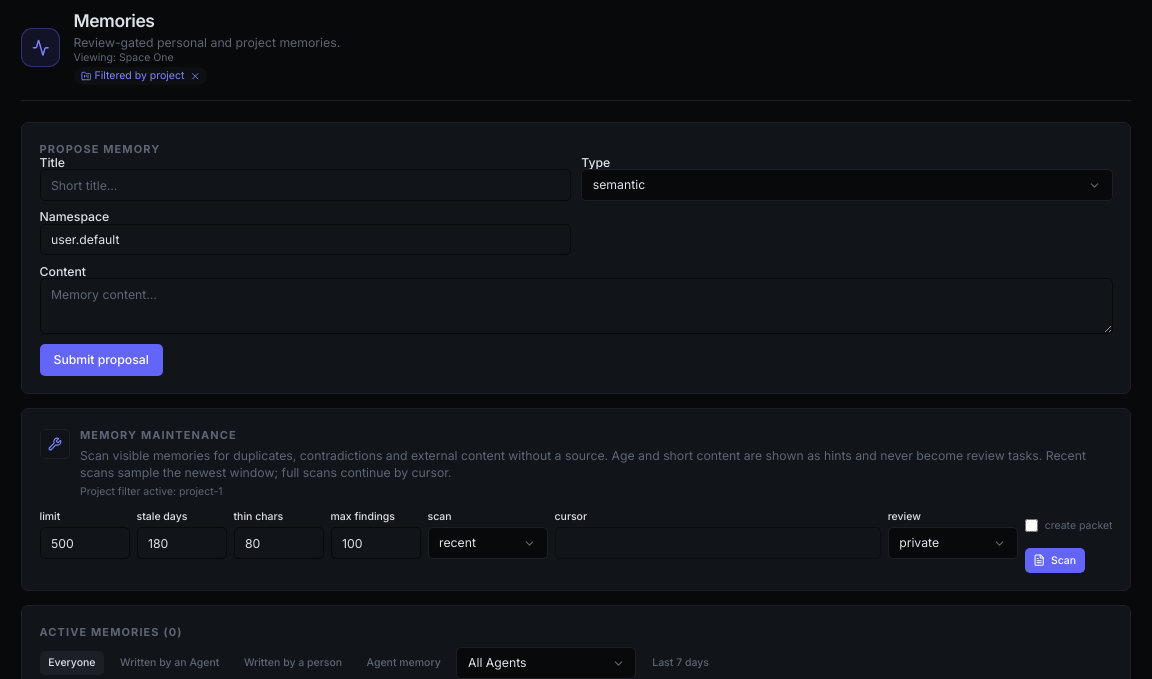
Test: MemoriesPage, memory an Agent wrote › ignores a slower answer for a filter that is no longer selected
Click the button "Written by an Agent" at (170, 663), box [111,651,228,675]
(page scrolled)
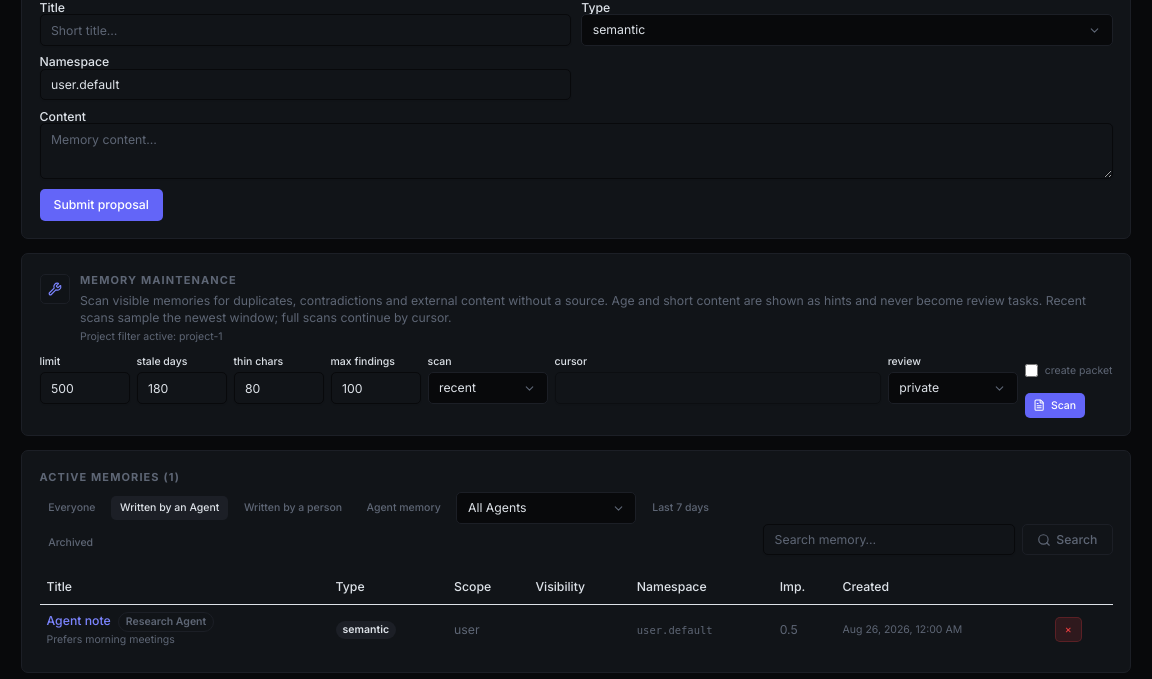
Check: the link "Agent note" is shown, box [46,613,111,628]
